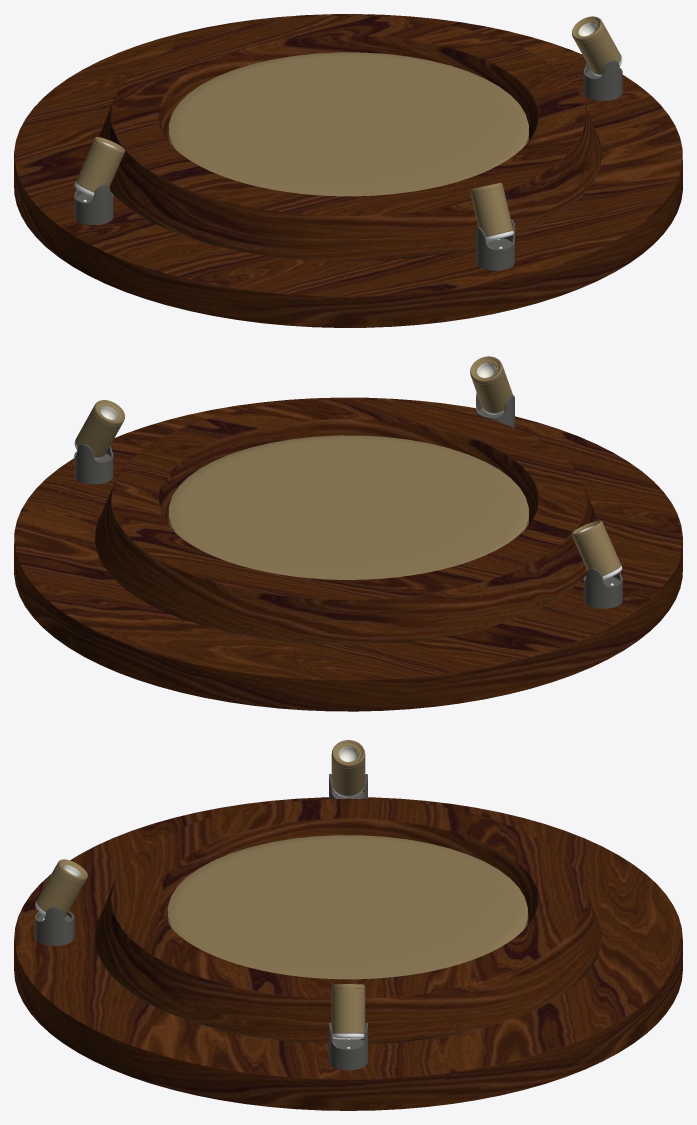
The model's file is podium.glb.
3 renders of one model, top to bottom at view 1: azimuth 30°, elevation 25°; view 2: azimuth 150°, elevation 25°; view 3: azimuth 270°, elevation 25°, orthographic.
Visible parts, largest first — view 1: base, full_cloth, light; view 2: base, full_cloth, light; view 3: base, full_cloth, light.
Boxes of the visible parts, x1,y1,x2,y2 form: base: (14,14,682,327); full_cloth: (168,52,528,196); light: (74,16,622,270); base: (14,397,682,711); full_cloth: (168,435,528,579); light: (74,356,622,608); base: (14,797,682,1110); full_cloth: (167,835,527,979); light: (35,740,367,1070).
Bounding box in the file's own units: 141 × 24.94 × 141.
Materials: 5 (2 with a texture image).
